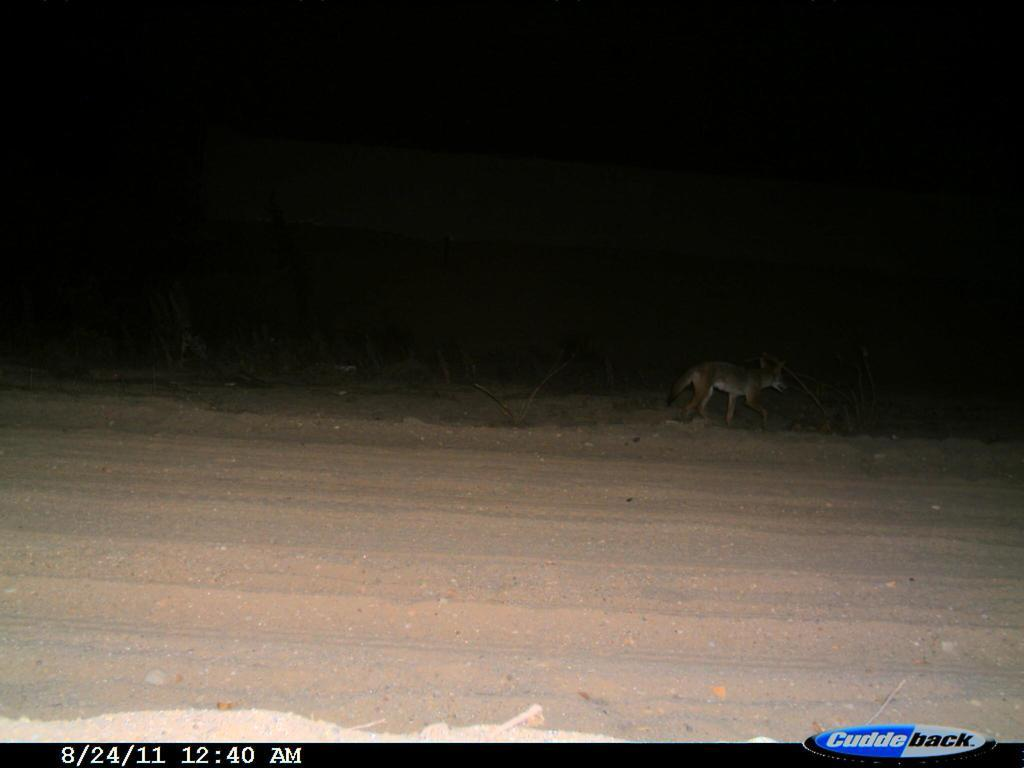coyote: (649, 339, 809, 436)
